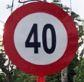Gioi han toc do: (7, 1, 78, 75)
